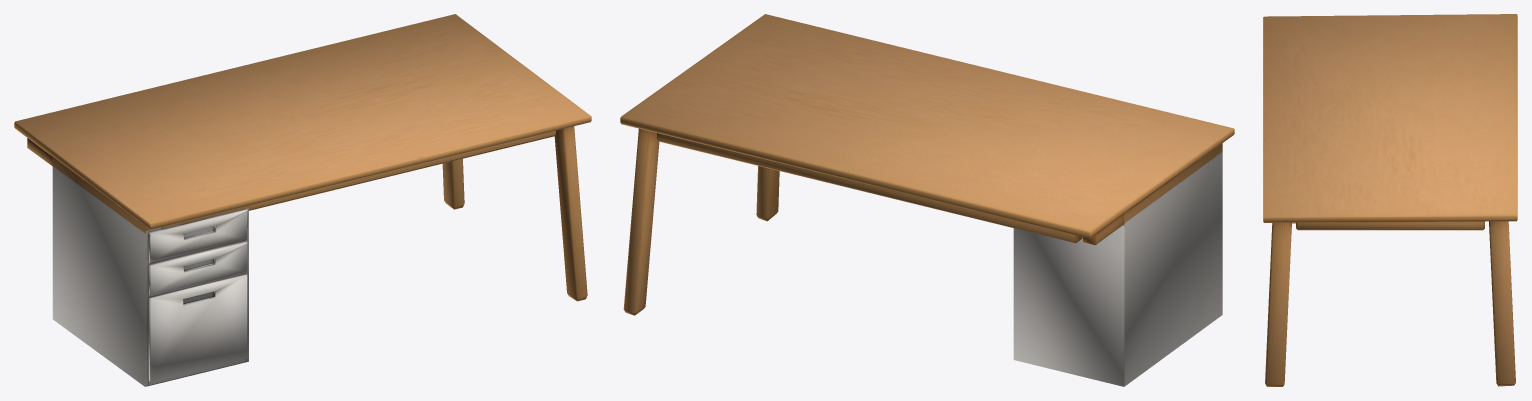
File: wooden-desk.glb
3 renders of one model, left to right at view 1: azimuth 30°, elevation 25°; view 2: azimuth 150°, elevation 25°; view 3: azimuth 270°, elevation 25°, orthographic. The views are drawn at different scales.
Parts seen in each view (by area): view 1: tripo_node_eee37962-36eb-4940-8e18-c283eae0666d; view 2: tripo_node_eee37962-36eb-4940-8e18-c283eae0666d; view 3: tripo_node_eee37962-36eb-4940-8e18-c283eae0666d.
Boxes of the visible parts, x1,y1,x2,y2 form: tripo_node_eee37962-36eb-4940-8e18-c283eae0666d: (14, 14, 591, 386); tripo_node_eee37962-36eb-4940-8e18-c283eae0666d: (620, 14, 1234, 386); tripo_node_eee37962-36eb-4940-8e18-c283eae0666d: (1263, 14, 1517, 386).
Size of the model in its own units: 0.998 by 0.4043 by 0.5332.
Materials: 1 (1 with a texture image).
